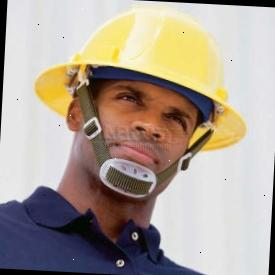helmet: (29, 0, 251, 153)
no_wear: (0, 213, 222, 275)
